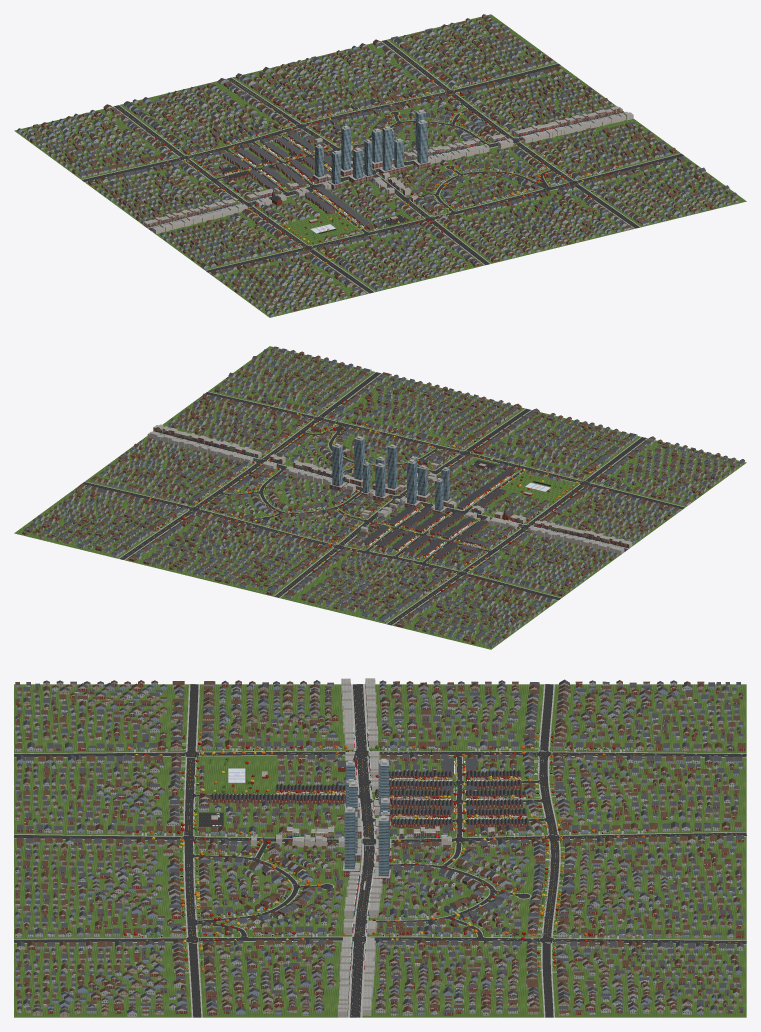
File: canada_maplewood.glb
The picture shows the model from 3 angles, top to bottom: view 1: azimuth 30°, elevation 25°; view 2: azimuth 150°, elevation 25°; view 3: azimuth 270°, elevation 25°; orthographic projection. The views are drawn at different scales.
Parts seen in each view (by area): view 1: Terrain_lawn_2_2, Terrain_lawn_4_4, Buildings_f_condo_3_3, Buildings_shingles_grey_2_4, Buildings_f_condo_3_2, Buildings_shingles_grey_2_3, Buildings_shingles_grey_1_4, Buildings_shingles_grey_2_2, Buildings_shingles_grey_4_5, Buildings_shingles_brown_6_0, Buildings_shingles_grey_0_5, Buildings_shingles_brown_6_4 (+46 smaller); view 2: Terrain_lawn_4_4, Terrain_lawn_2_2, Buildings_f_condo_3_3, Buildings_shingles_grey_2_3, Buildings_shingles_grey_2_4, Buildings_shingles_grey_1_4, Buildings_shingles_grey_2_2, Buildings_f_condo_3_2, Buildings_shingles_grey_4_5, Buildings_shingles_brown_6_0, Buildings_shingles_brown_6_4, Buildings_shingles_grey_0_5 (+43 smaller); view 3: Terrain_lawn_4_4, Terrain_lawn_2_2, Buildings_shingles_grey_2_4, Buildings_shingles_grey_2_3, Buildings_shingles_grey_1_4, Buildings_shingles_grey_2_2, Buildings_shingles_grey_4_5, Buildings_shingles_brown_6_0, Buildings_shingles_grey_1_5, Buildings_shingles_grey_0_5, Buildings_shingles_brown_6_4, Buildings_shingles_brown_3_1 (+108 smaller).
Boxes of the visible parts, x1=… form: Terrain_lawn_2_2: x1=14, y1=130, x2=746, y2=317; Terrain_lawn_4_4: x1=15, y1=14, x2=746, y2=201; Buildings_f_condo_3_3: x1=341, y1=128, x2=403, y2=171; Buildings_shingles_grey_2_4: x1=214, y1=126, x2=314, y2=164; Buildings_f_condo_3_2: x1=353, y1=122, x2=427, y2=178; Buildings_shingles_grey_2_3: x1=261, y1=153, x2=341, y2=188; Buildings_shingles_grey_1_4: x1=149, y1=138, x2=249, y2=182; Buildings_shingles_grey_2_2: x1=291, y1=186, x2=390, y2=217; Buildings_shingles_grey_4_5: x1=311, y1=59, x2=404, y2=101; Buildings_shingles_brown_6_0: x1=640, y1=173, x2=738, y2=213; Buildings_shingles_grey_0_5: x1=40, y1=127, x2=132, y2=169; Buildings_shingles_brown_6_4: x1=486, y1=56, x2=576, y2=98; Terrain_lawn_4_4: x1=14, y1=346, x2=490, y2=649; Terrain_lawn_2_2: x1=270, y1=346, x2=746, y2=649; Buildings_f_condo_3_3: x1=363, y1=447, x2=416, y2=504; Buildings_shingles_grey_2_3: x1=388, y1=505, x2=474, y2=537; Buildings_shingles_grey_2_4: x1=351, y1=525, x2=443, y2=568; Buildings_shingles_grey_1_4: x1=414, y1=542, x2=514, y2=578; Buildings_shingles_grey_2_2: x1=450, y1=470, x2=517, y2=512; Buildings_f_condo_3_2: x1=354, y1=438, x2=427, y2=495; Buildings_shingles_grey_4_5: x1=173, y1=523, x2=270, y2=563; Buildings_shingles_brown_6_0: x1=237, y1=346, x2=329, y2=388; Buildings_shingles_brown_6_4: x1=78, y1=464, x2=175, y2=501; Buildings_shingles_grey_0_5: x1=447, y1=590, x2=543, y2=632; Terrain_lawn_4_4: x1=15, y1=684, x2=746, y2=1017; Terrain_lawn_2_2: x1=14, y1=684, x2=745, y2=1017; Buildings_shingles_grey_2_4: x1=465, y1=779, x2=577, y2=824; Buildings_shingles_grey_2_3: x1=375, y1=780, x2=453, y2=825; Buildings_shingles_grey_1_4: x1=464, y1=726, x2=576, y2=777; Buildings_shingles_grey_2_2: x1=241, y1=776, x2=345, y2=822; Buildings_shingles_grey_4_5: x1=575, y1=869, x2=690, y2=918; Buildings_shingles_brown_6_0: x1=15, y1=963, x2=128, y2=1012; Buildings_shingles_grey_1_5: x1=575, y1=727, x2=691, y2=777; Buildings_shingles_grey_0_5: x1=575, y1=680, x2=692, y2=729; Buildings_shingles_brown_6_4: x1=469, y1=963, x2=580, y2=1013; Buildings_shingles_brown_3_1: x1=131, y1=825, x2=236, y2=872.
Size of what is drawn, in the model's own units: 1401 by 130 by 1301.
Materials: 53 (27 with a texture image).
